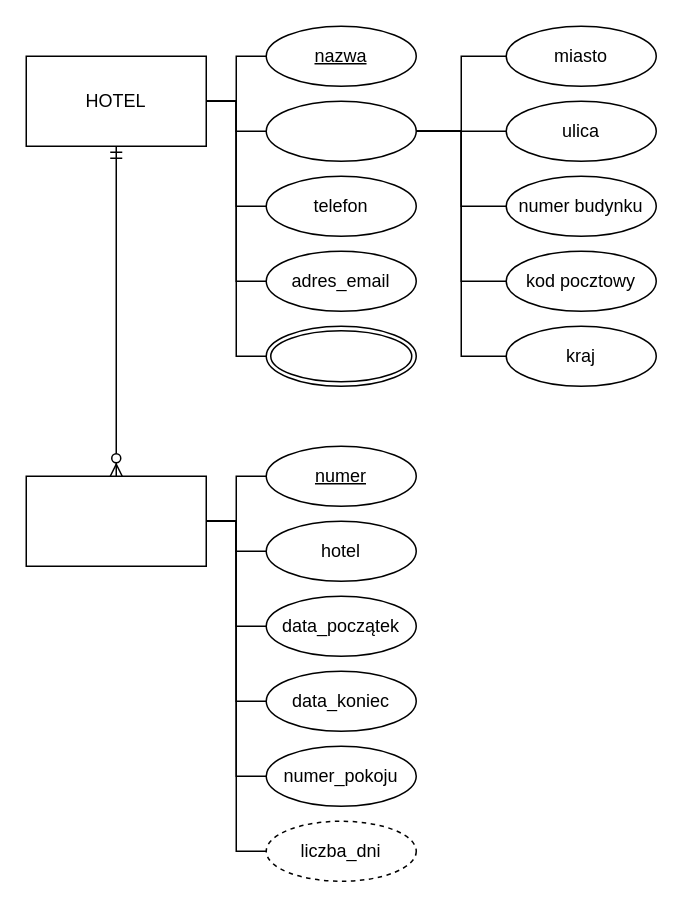
The diagram is 683 pixels wide and 908 high, and some of its shapes have lost their labels. The centre of each missing label's shape, as x and y in pixels:
"adres" belongs at (x=340, y=130).
"pokoje" belongs at (x=340, y=355).
"REZERWACJA" belongs at (x=115, y=520).
